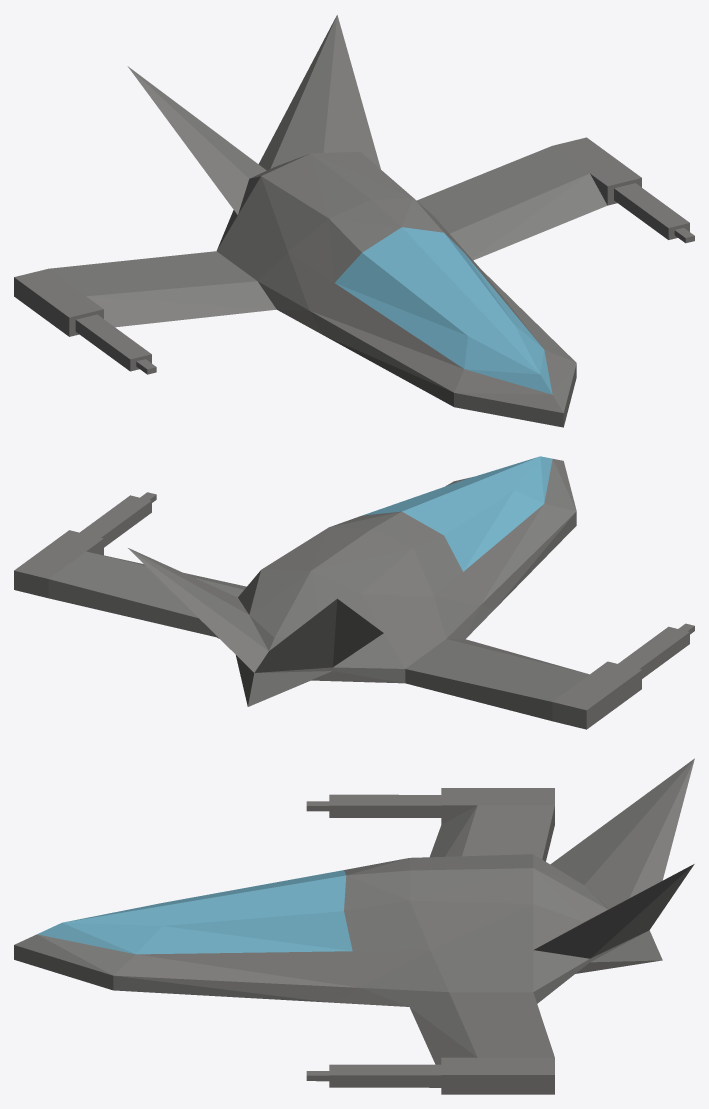
The model's file is ship.fbx.
3 views of the same model, one above another, from view 1: azimuth 30°, elevation 25°; view 2: azimuth 150°, elevation 25°; view 3: azimuth 270°, elevation 25° (orthographic). The views are drawn at different scales.
Visible parts, largest first — view 1: Cube; view 2: Cube; view 3: Cube.
Part boxes in pixels (<box>): Cube: <box>14,15,694,427</box>; Cube: <box>14,456,694,729</box>; Cube: <box>14,758,694,1094</box>.
Bounding box in the file's own units: 753 × 239 × 755.
